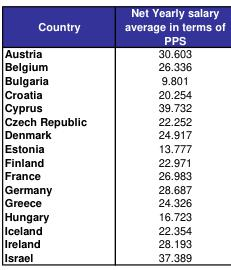table: (3, 4, 224, 264)
table column: (104, 4, 224, 264), (3, 4, 104, 264)
table column header: (3, 4, 224, 46)
table row: (3, 4, 224, 46), (3, 249, 224, 264), (3, 59, 224, 73), (3, 86, 224, 100), (3, 113, 224, 127), (3, 127, 224, 141), (3, 154, 224, 168), (3, 181, 224, 195), (3, 195, 224, 209), (3, 222, 224, 236), (3, 46, 224, 59), (3, 73, 224, 86), (3, 100, 224, 113), (3, 141, 224, 154), (3, 168, 224, 181), (3, 209, 224, 222), (3, 236, 224, 249)
